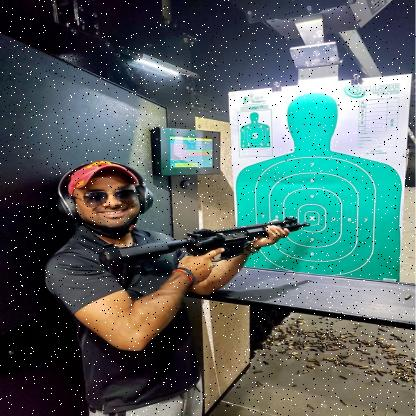rifle: (96, 216, 312, 292)
